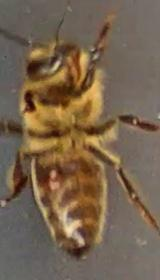varroa_mite: (38, 167, 72, 196)
